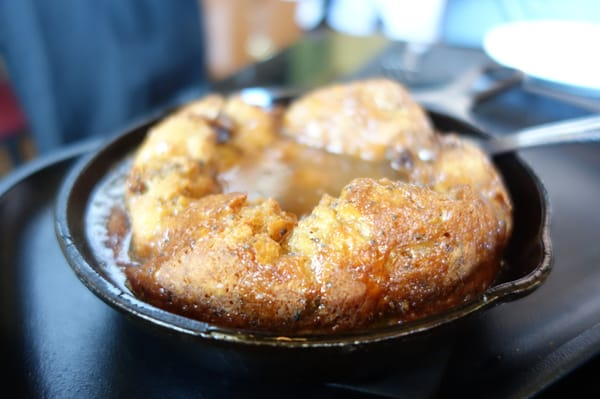curry: (8, 11, 599, 393)
sushi: (116, 78, 512, 337)
